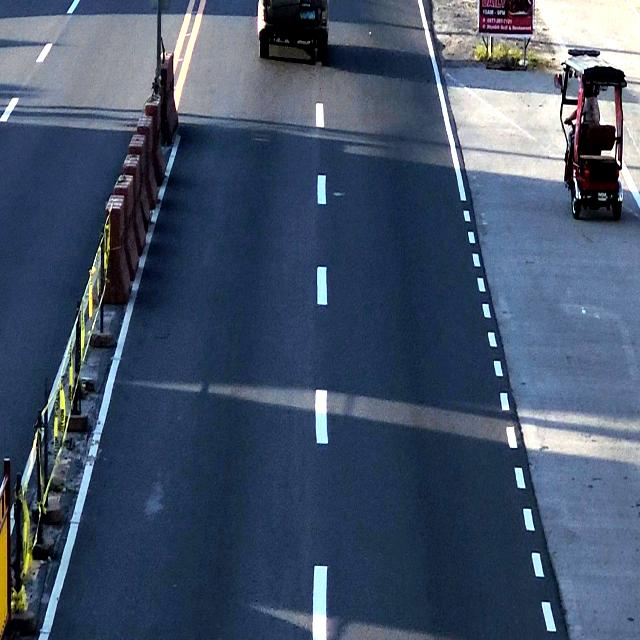Car: (258, 0, 331, 58)
